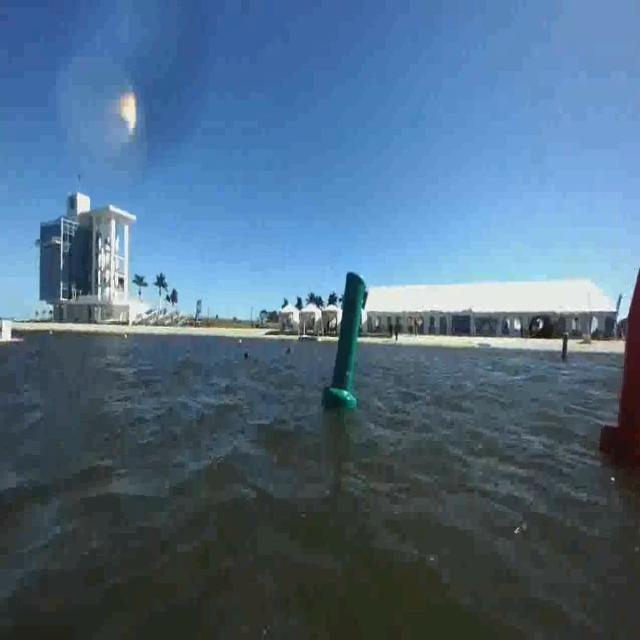green-column-buoy: (327, 270, 369, 410)
red-column-buoy: (601, 273, 640, 463)
